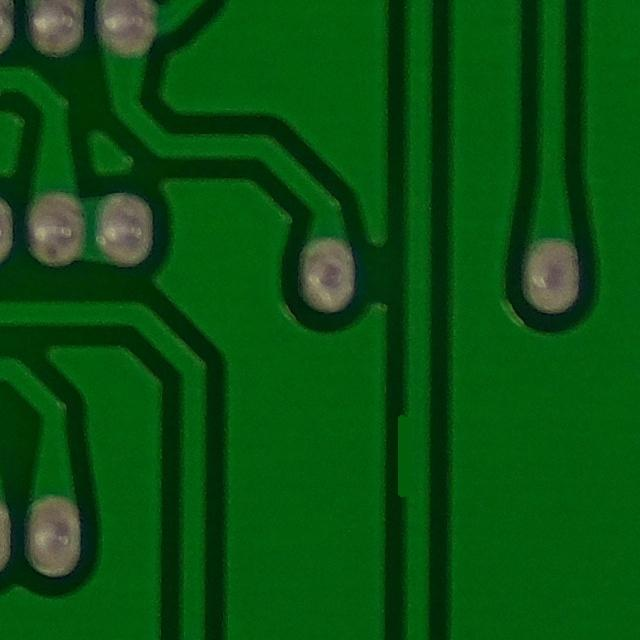spur: (374, 379, 445, 520)
